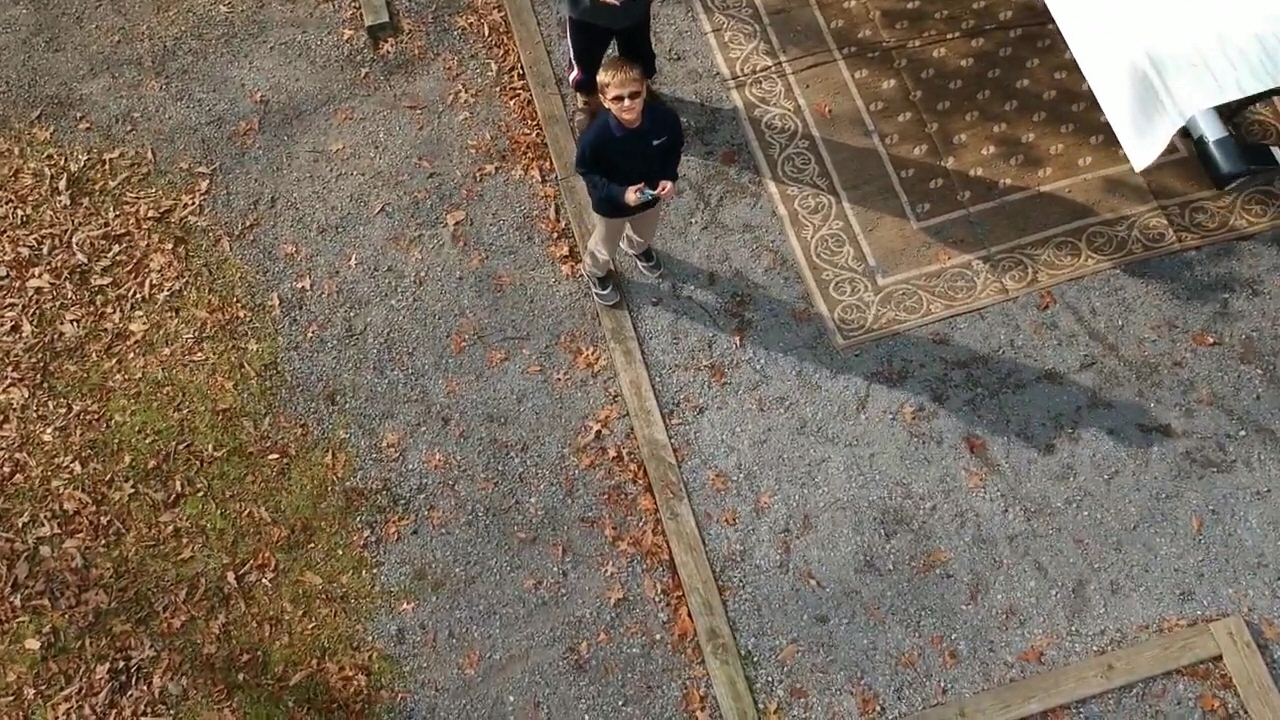insan: (565, 56, 704, 307)
